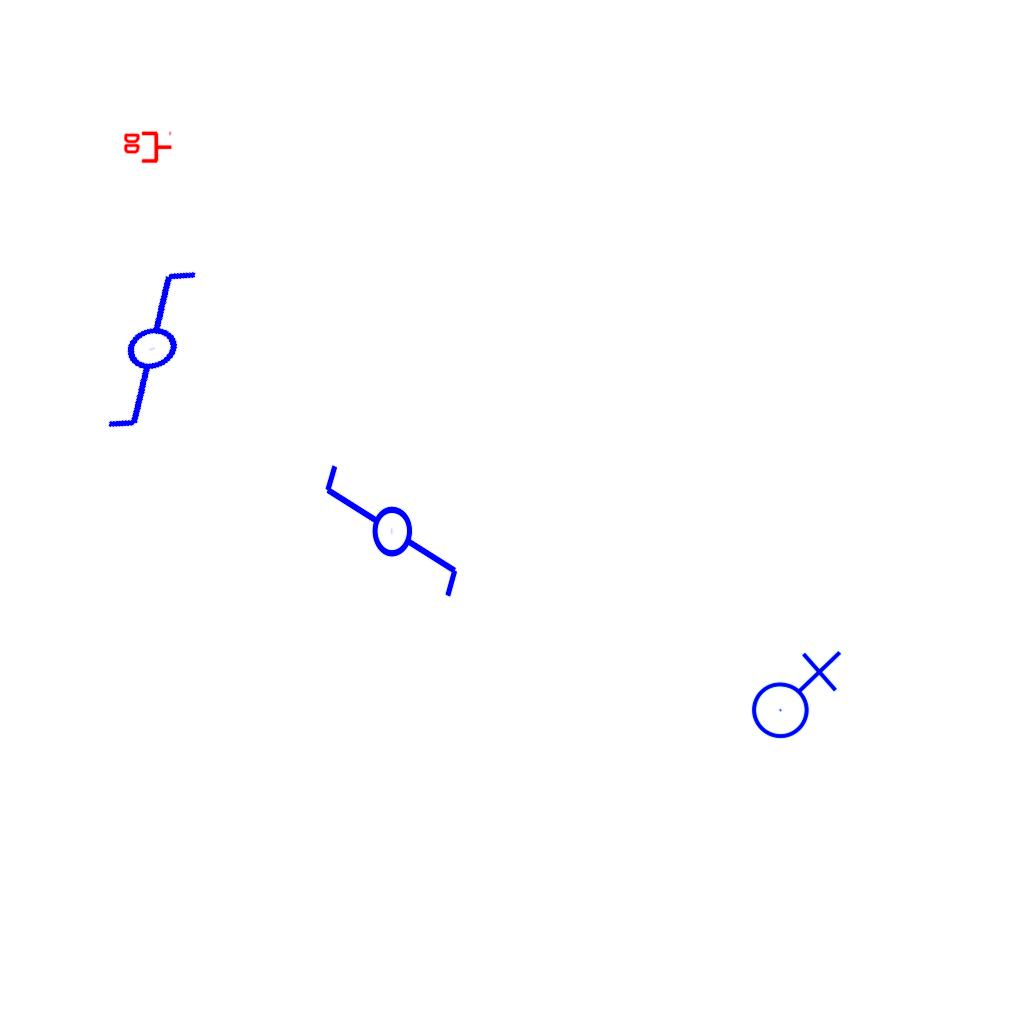Datenanschluss_zweifach: (122, 131, 173, 165)
Elektroanschluss_allgemein_230V_Geraeteanschlussdose_230V: (743, 646, 842, 740)
Wechselschalter: (62, 254, 259, 442), (318, 461, 462, 618)
